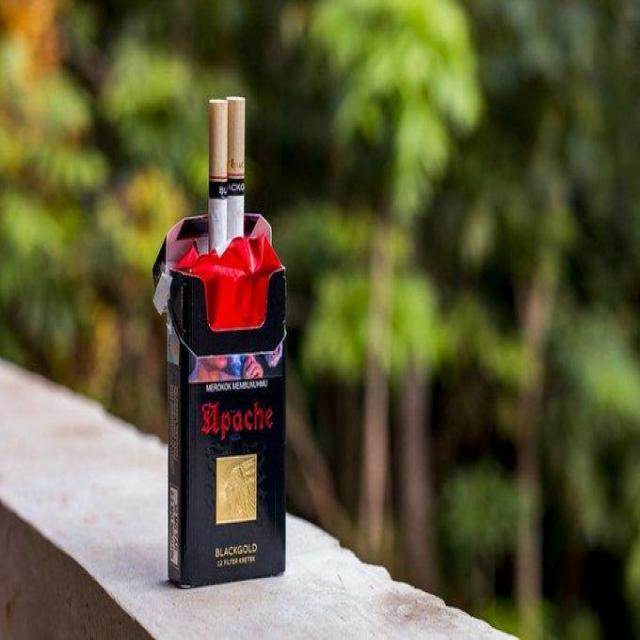rokok: (204, 96, 232, 256), (224, 86, 248, 250)
